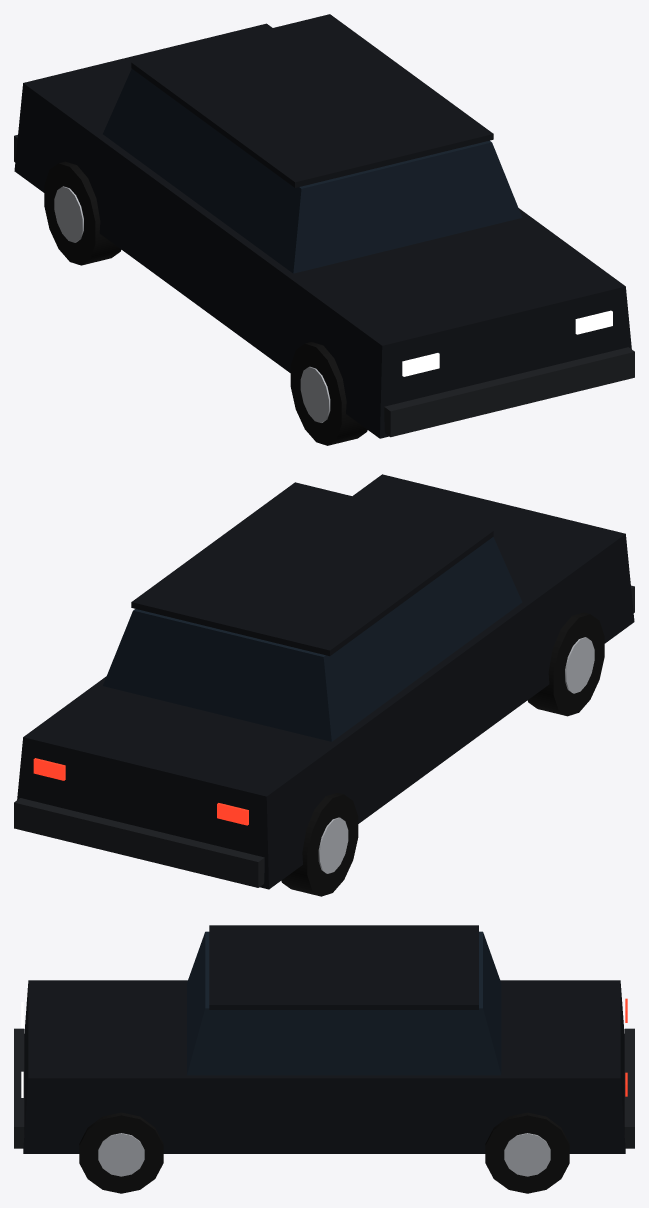
The model's file is sedan-1.glb.
3 renders of one model, top to bottom at view 1: azimuth 30°, elevation 25°; view 2: azimuth 150°, elevation 25°; view 3: azimuth 270°, elevation 25°, orthographic. The views are drawn at different scales.
Bounding box in the file's own units: 1.93 × 1.48 × 4.74.
